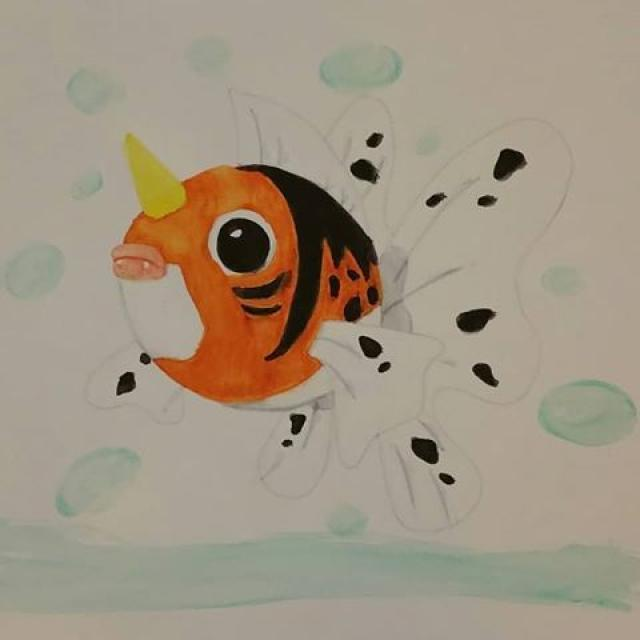Seaking: (106, 126, 535, 426)
